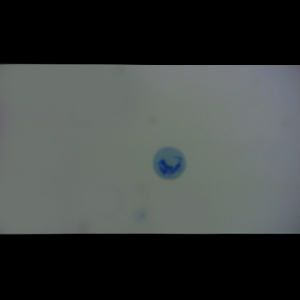aggregate reticulocyte: (152, 146, 186, 181)
